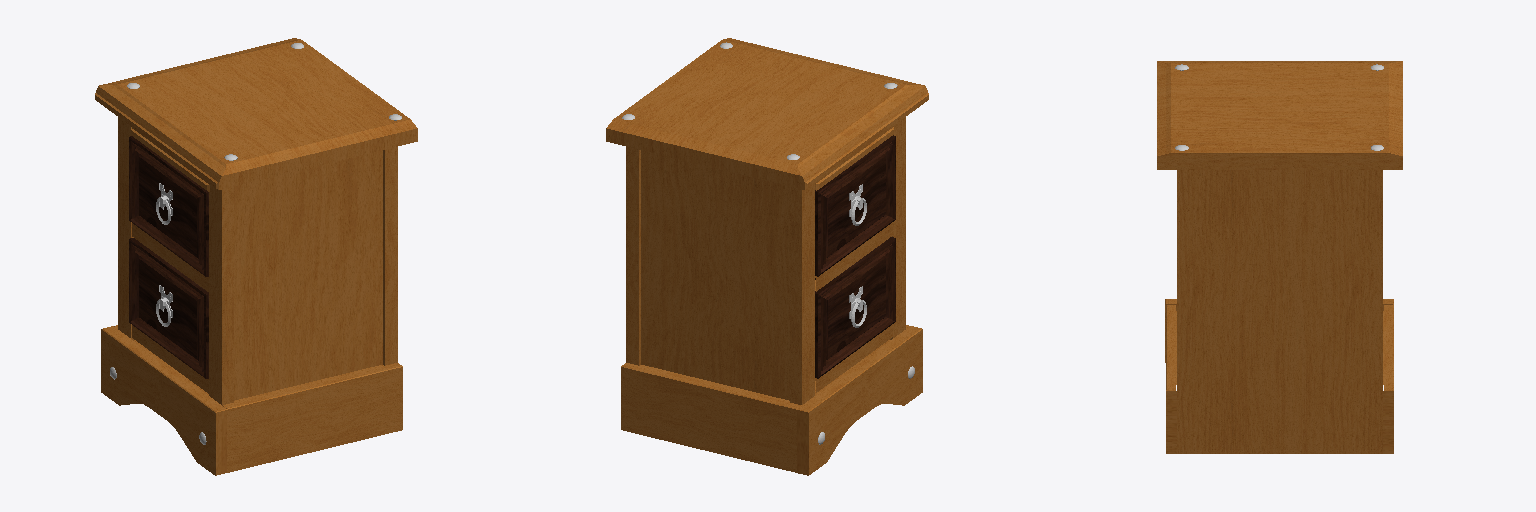
The picture shows the model from 3 angles: view 1: azimuth 30°, elevation 25°; view 2: azimuth 150°, elevation 25°; view 3: azimuth 270°, elevation 25°; orthographic projection.
Visible parts, largest first — view 1: Corona_Low__Bookcase.003, Drawe01.014, Drawe01.013; view 2: Corona_Low__Bookcase.003, Drawe01.014, Drawe01.013; view 3: Corona_Low__Bookcase.003.
Part boxes in pixels (left/top/right/bottom): Corona_Low__Bookcase.003: left=95, top=38, right=417, bottom=475; Drawe01.014: left=129, top=238, right=208, bottom=378; Drawe01.013: left=129, top=136, right=208, bottom=276; Corona_Low__Bookcase.003: left=606, top=38, right=928, bottom=475; Drawe01.014: left=815, top=237, right=895, bottom=378; Drawe01.013: left=815, top=135, right=895, bottom=276; Corona_Low__Bookcase.003: left=1157, top=61, right=1402, bottom=453.
Size of the model in its own units: 0.3616 by 0.532 by 0.3857.
4 materials, 2 textured.